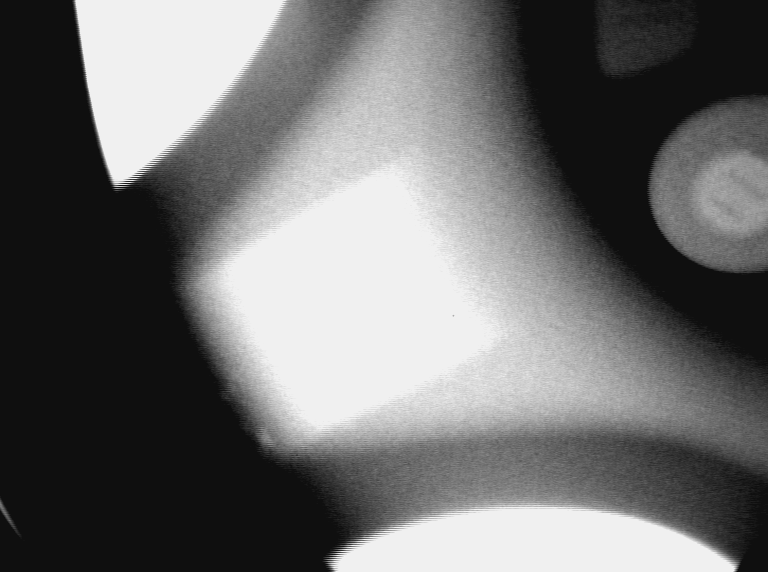defect: (212, 375, 251, 407)
